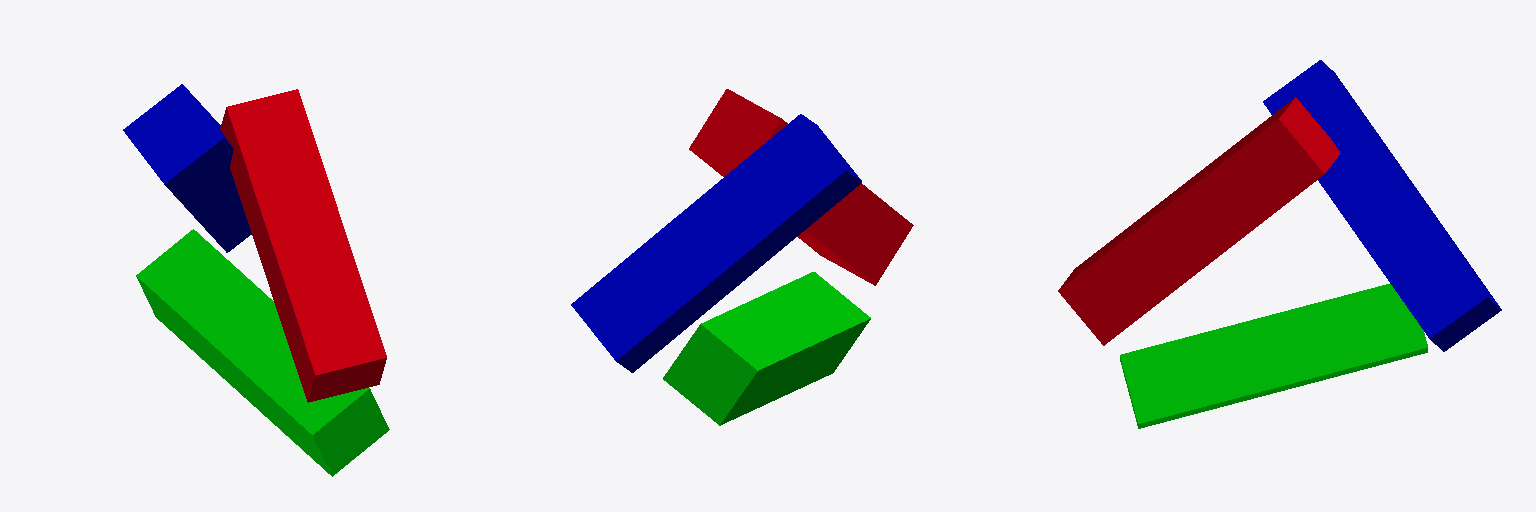
The model's file is materialTest.obj.
3 views of the same model, side by side, from view 1: azimuth 30°, elevation 25°; view 2: azimuth 150°, elevation 25°; view 3: azimuth 270°, elevation 25° (orthographic).
Visible parts, largest first — view 1: Cube.002, Cube, Cube.003; view 2: Cube.003, Cube, Cube.002; view 3: Cube.002, Cube, Cube.003.
Part boxes in pixels (bbox=[...]): Cube.002: bbox=[220, 89, 386, 402]; Cube: bbox=[136, 229, 389, 476]; Cube.003: bbox=[123, 84, 251, 252]; Cube.003: bbox=[571, 114, 861, 372]; Cube: bbox=[663, 272, 870, 425]; Cube.002: bbox=[689, 89, 913, 285]; Cube.002: bbox=[1058, 97, 1340, 345]; Cube: bbox=[1120, 284, 1427, 428]; Cube.003: bbox=[1263, 60, 1501, 351].
Size of the model in its own units: 1.63 by 2.51 by 2.96.